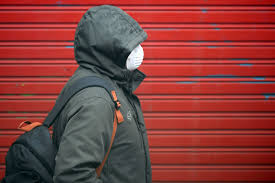mask: (78, 11, 151, 84)
